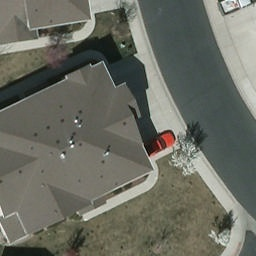car: (143, 129, 180, 160)
